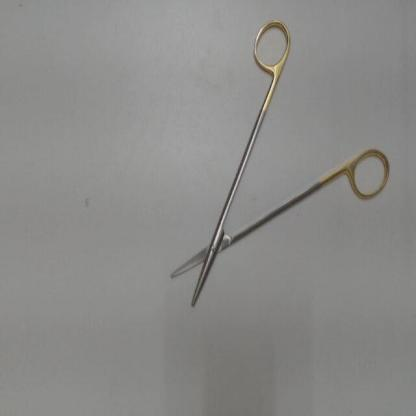7 Metzenbaum Scissors: (164, 13, 394, 313)
